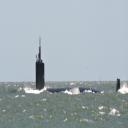submarine: (13, 39, 104, 99)
